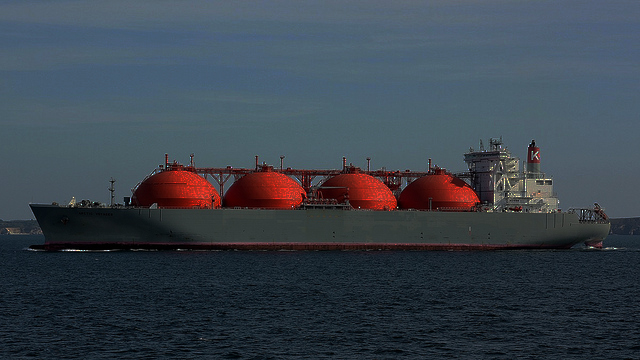LNG_ship: (25, 136, 613, 252)
